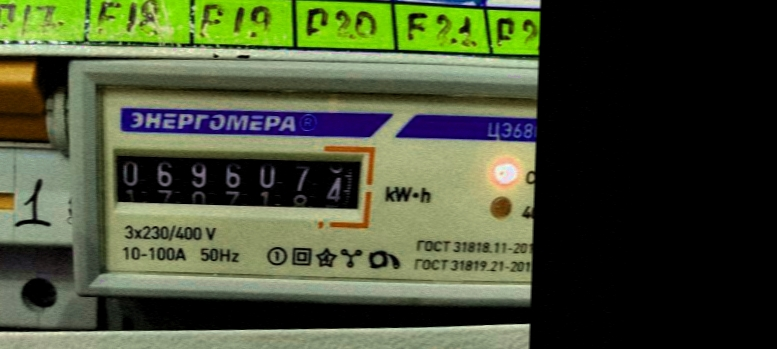0: (120, 157, 140, 187), (256, 161, 276, 188)
4: (323, 175, 342, 204)
6: (223, 160, 242, 188), (154, 160, 173, 187)
7: (291, 162, 311, 193)
9: (188, 161, 207, 189)
screen: (98, 134, 379, 230)
